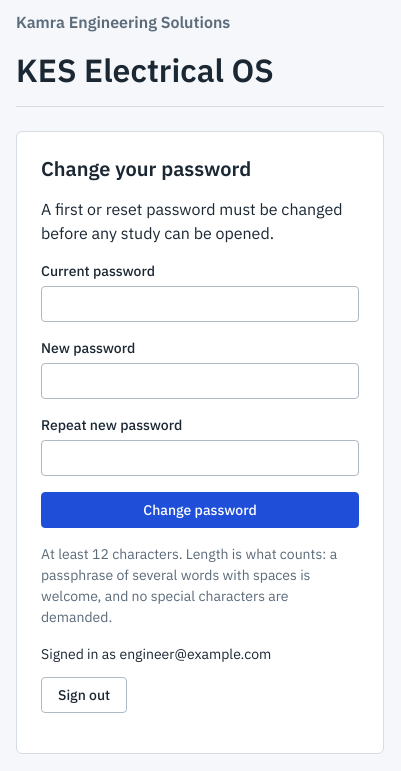
Test case: ChangePasswordPage › changes the password, refreshes the session and confirms
The width and height of the screenshot is (401, 771).
Step 1. Type "the first password" into the password field labelled "Current password" → [200, 304], box [41, 286, 359, 322]
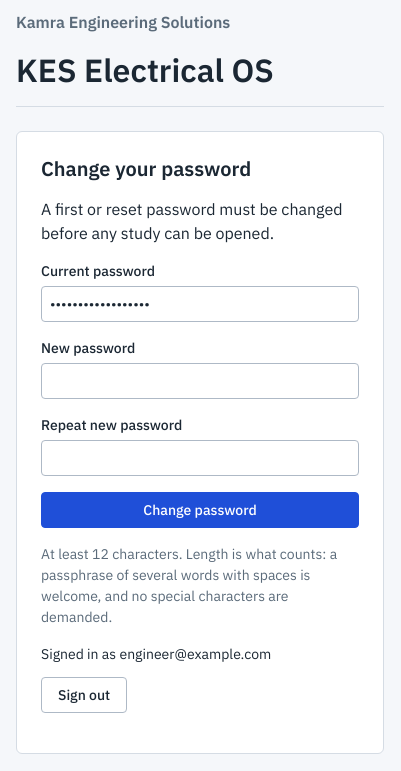
Step 2. Type "four new words with spaces" into the password field labelled "New password" → [200, 381], box [41, 363, 359, 399]
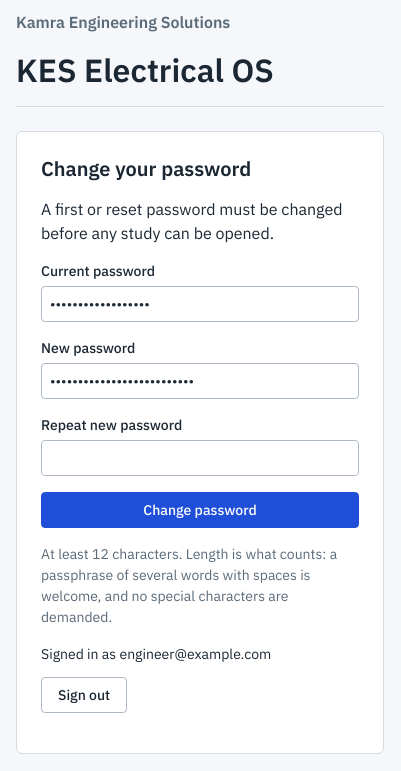
Step 3. Type "four new words with spaces" into the password field labelled "Repeat new password" → [200, 458], box [41, 440, 359, 476]
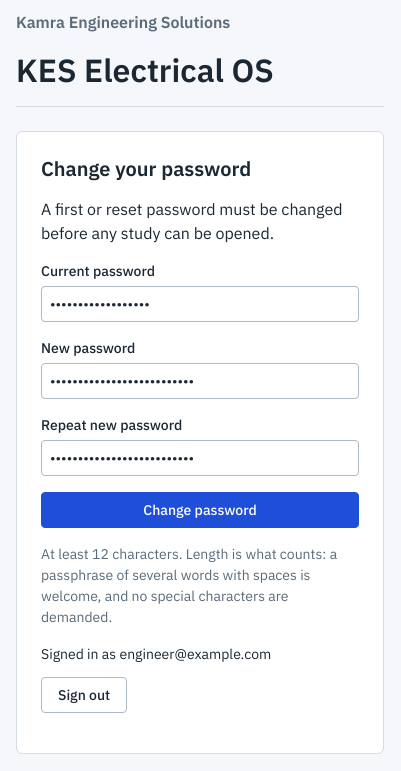
Step 4. Click the button "Change password" → [200, 510], box [41, 492, 359, 528]
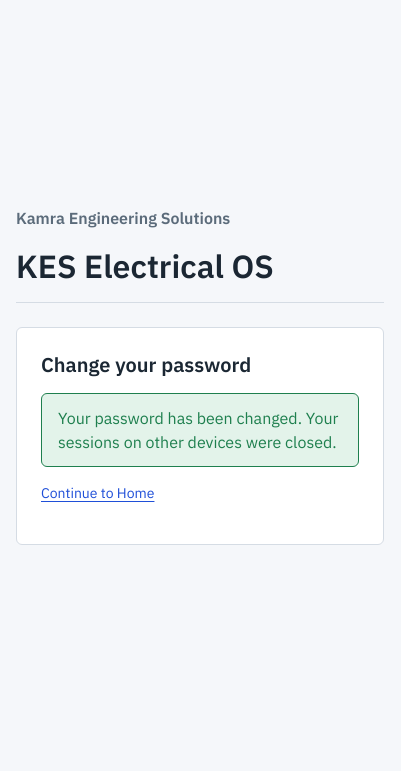
Expected: the message shows "Your password has been changed.", [58, 408, 338, 452]
Expected: the label labelled "New password" is gone
